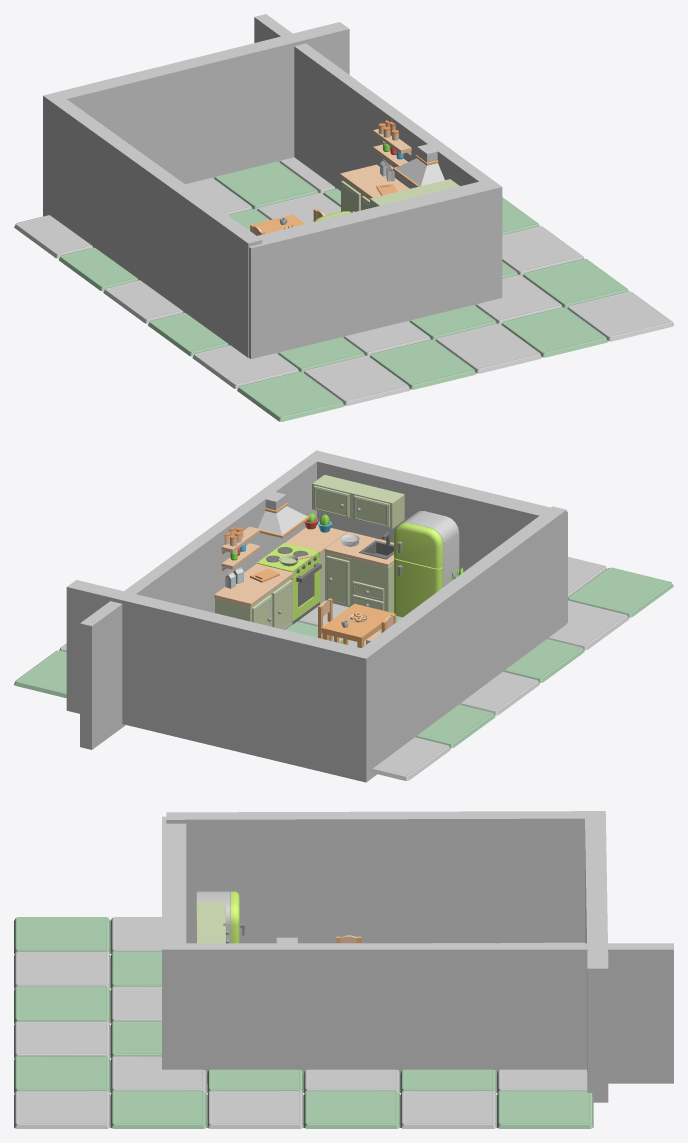
File: Kitchen.gltf
3 renders of one model, top to bottom at view 1: azimuth 30°, elevation 25°; view 2: azimuth 150°, elevation 25°; view 3: azimuth 270°, elevation 25°, orthographic. The views are drawn at different scales.
Parts seen in each view (by area): view 1: Wall.001, Floor tile, Wall, Counter, Hood, Wall shelf; view 2: Wall.001, Wall, Floor tile, Fridge, Counter with sink, Counter, Wall shelf, Stove, Table, Hood, Counter corner; view 3: Wall, Floor tile, Wall.001, Wall shelf, Fridge.
Part boxes in pixels (x1,y1,x2,y2): Wall.001: (43, 22, 349, 357); Floor tile: (14, 157, 673, 421); Wall: (249, 14, 502, 358); Counter: (340, 164, 409, 212); Hood: (393, 143, 444, 186); Wall shelf: (370, 179, 459, 208); Wall.001: (66, 506, 566, 782); Wall: (80, 450, 567, 749); Floor tile: (14, 557, 673, 780); Fridge: (394, 511, 459, 617); Counter with sink: (324, 531, 393, 612); Counter: (214, 563, 293, 629); Wall shelf: (312, 474, 404, 528); Stove: (257, 543, 321, 624); Table: (321, 603, 394, 648); Hood: (258, 491, 310, 538); Counter corner: (285, 524, 346, 604); Wall: (162, 816, 673, 1083); Floor tile: (14, 917, 593, 1128); Wall.001: (166, 811, 608, 1102); Wall shelf: (196, 902, 229, 943); Fridge: (196, 891, 244, 943).
Size of the model in its own units: 16.7 by 5.15 by 22.31.
